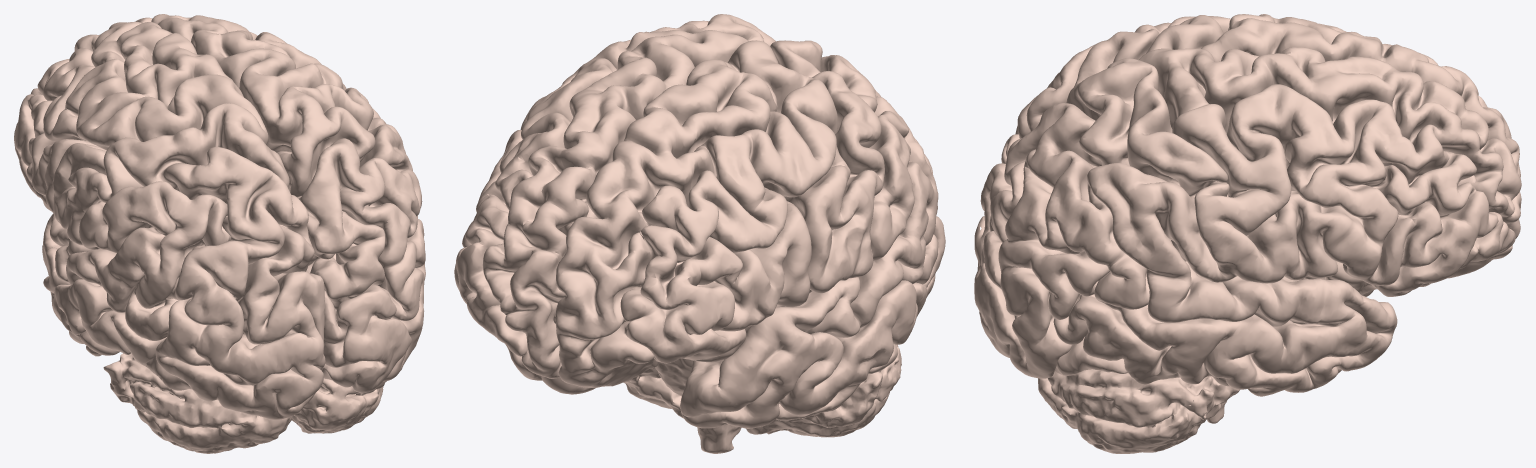
Rendered from brain.glb.
3 renders of one model, left to right at view 1: azimuth 30°, elevation 25°; view 2: azimuth 150°, elevation 25°; view 3: azimuth 270°, elevation 25°, orthographic. The views are drawn at different scales.
Parts seen in each view (by area): view 1: Object_4, Object_3, Object_2, Object_5; view 2: Object_4, Object_3, Object_2, Object_5; view 3: Object_3, Object_2, Object_5, Object_4.
Part boxes in pixels (x1,y1,x2,y2): Object_4: [14, 21, 425, 419]; Object_3: [29, 14, 386, 402]; Object_2: [103, 19, 423, 453]; Object_5: [214, 32, 424, 378]; Object_4: [556, 41, 945, 428]; Object_3: [454, 35, 937, 394]; Object_2: [521, 14, 901, 453]; Object_5: [521, 14, 771, 129]; Object_3: [974, 14, 1521, 392]; Object_2: [974, 47, 1512, 453]; Object_5: [1020, 51, 1295, 396]; Object_4: [974, 16, 1520, 378].
Size of the model in its own units: 134 by 142 by 182.
